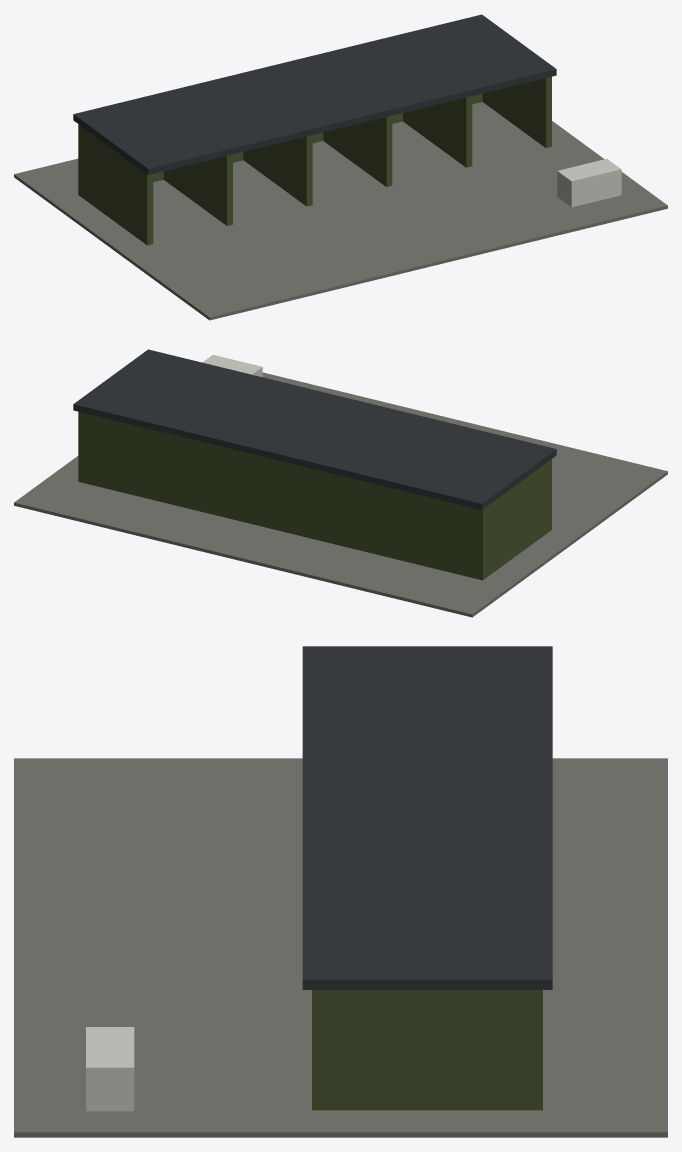
File: depot.glb
3 views of the same model, one above another, from view 1: azimuth 30°, elevation 25°; view 2: azimuth 150°, elevation 25°; view 3: azimuth 270°, elevation 25° (orthographic). The views are drawn at different scales.
Visible parts, largest first — view 1: depot; view 2: depot; view 3: depot.
Boxes of the visible parts, x1=… form: depot: x1=14, y1=14, x2=667, y2=320; depot: x1=14, y1=349, x2=667, y2=617; depot: x1=14, y1=646, x2=667, y2=1137.
Bounding box in the file's own units: 46 × 7.9 × 34.
